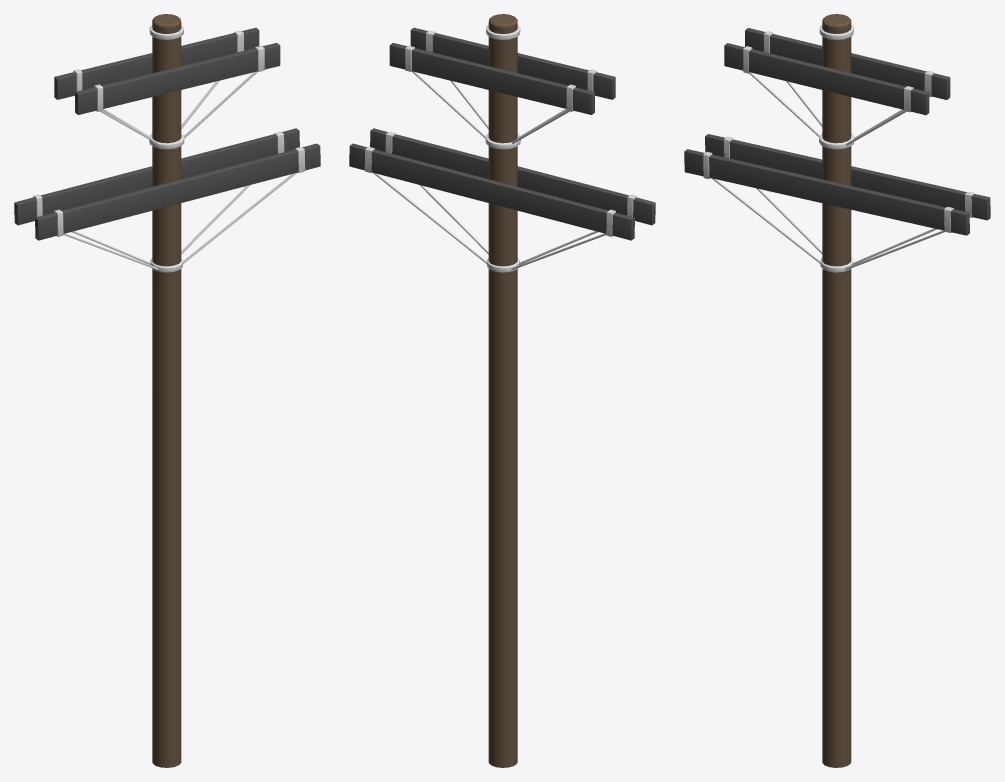
File: Pole-M00A.fbx
The picture shows the model from 3 angles, left to right: view 1: azimuth 30°, elevation 25°; view 2: azimuth 150°, elevation 25°; view 3: azimuth 330°, elevation 25°; orthographic projection.
Parts seen in each view (by area): view 1: Pole-M00A; view 2: Pole-M00A; view 3: Pole-M00A.
Part boxes in pixels (x1,y1,x2,y2): Pole-M00A: (14,14,320,767); Pole-M00A: (349,14,655,767); Pole-M00A: (684,14,990,767).
Bounding box in the file's own units: 410 × 1027 × 61.64.
